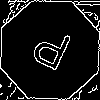P: (25, 25, 74, 80)
